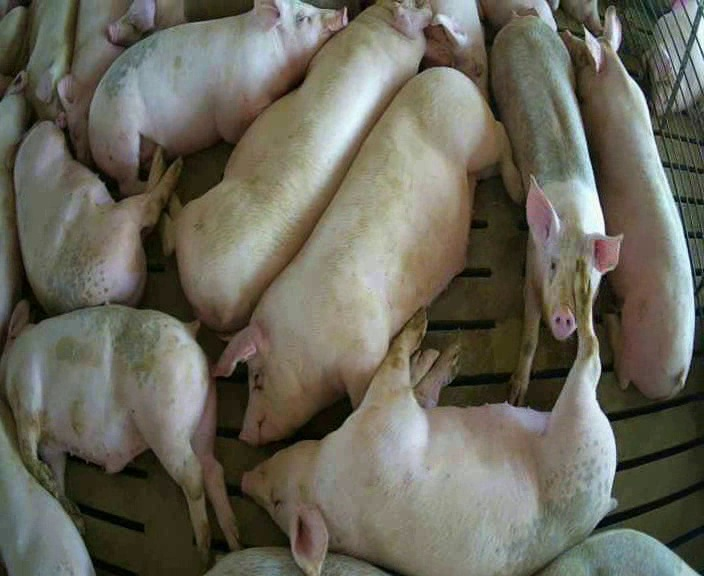pig: (242, 265, 615, 573), (156, 2, 431, 332), (0, 300, 237, 561), (561, 7, 694, 398), (89, 2, 347, 193), (6, 120, 180, 313), (57, 2, 129, 164), (8, 1, 77, 128), (422, 1, 487, 97)
